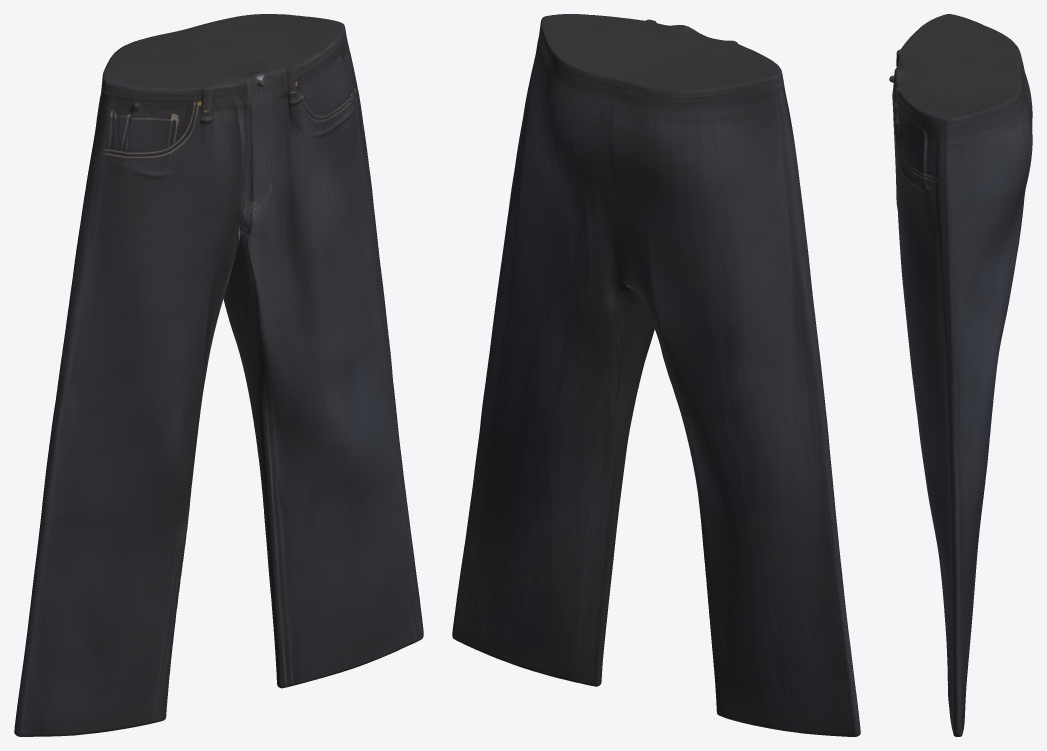
The model's file is zara-loose-fit-jeans-556169731.glb.
3 views of the same model, side by side, from view 1: azimuth 30°, elevation 25°; view 2: azimuth 150°, elevation 25°; view 3: azimuth 270°, elevation 25° (orthographic). The views are drawn at different scales.
Parts seen in each view (by area): view 1: tripo_node_3f8a103c-8ad7-48b7-af13-ae2de6dd273e; view 2: tripo_node_3f8a103c-8ad7-48b7-af13-ae2de6dd273e; view 3: tripo_node_3f8a103c-8ad7-48b7-af13-ae2de6dd273e.
Part boxes in pixels (x1=…): tripo_node_3f8a103c-8ad7-48b7-af13-ae2de6dd273e: x1=14, y1=14, x2=423, y2=736; tripo_node_3f8a103c-8ad7-48b7-af13-ae2de6dd273e: x1=452, y1=14, x2=860, y2=736; tripo_node_3f8a103c-8ad7-48b7-af13-ae2de6dd273e: x1=889, y1=14, x2=1032, y2=736.
Size of the model in its own units: 0.6534 by 1 by 0.2183.
Materials: 1 (1 with a texture image).
